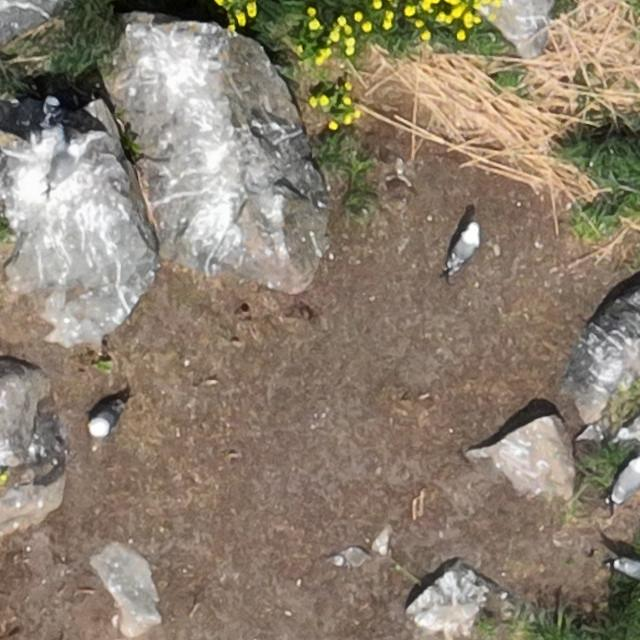umineko: (47, 141, 84, 197), (612, 456, 640, 508), (89, 402, 123, 438), (454, 226, 479, 266), (615, 560, 640, 579)
